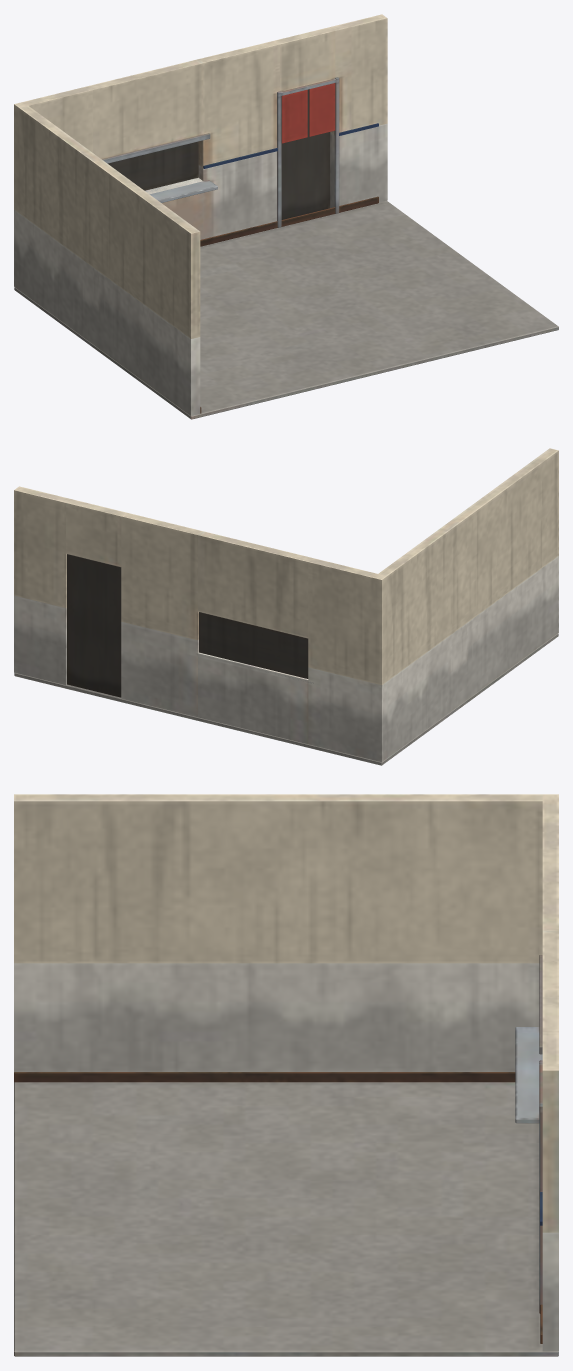
The model's file is noodle_shop_shell.glb.
3 views of the same model, one above another, from view 1: azimuth 30°, elevation 25°; view 2: azimuth 150°, elevation 25°; view 3: azimuth 270°, elevation 25° (orthographic). The views are drawn at different scales.
Parts seen in each view (by area): view 1: noodle_shop_shell; view 2: noodle_shop_shell; view 3: noodle_shop_shell.
Part boxes in pixels (box(x1,y1,x2,y2)): noodle_shop_shell: box(14, 14, 558, 419); noodle_shop_shell: box(14, 448, 558, 765); noodle_shop_shell: box(14, 794, 558, 1356).
Size of the model in its own units: 6 by 2.9 by 5.
Materials: 8 (8 with a texture image).
